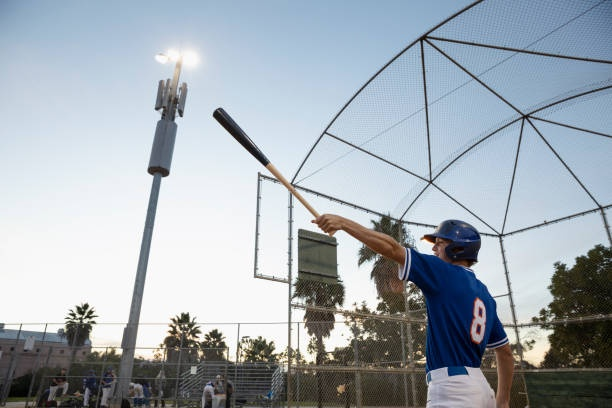bita: (214, 105, 321, 221)
